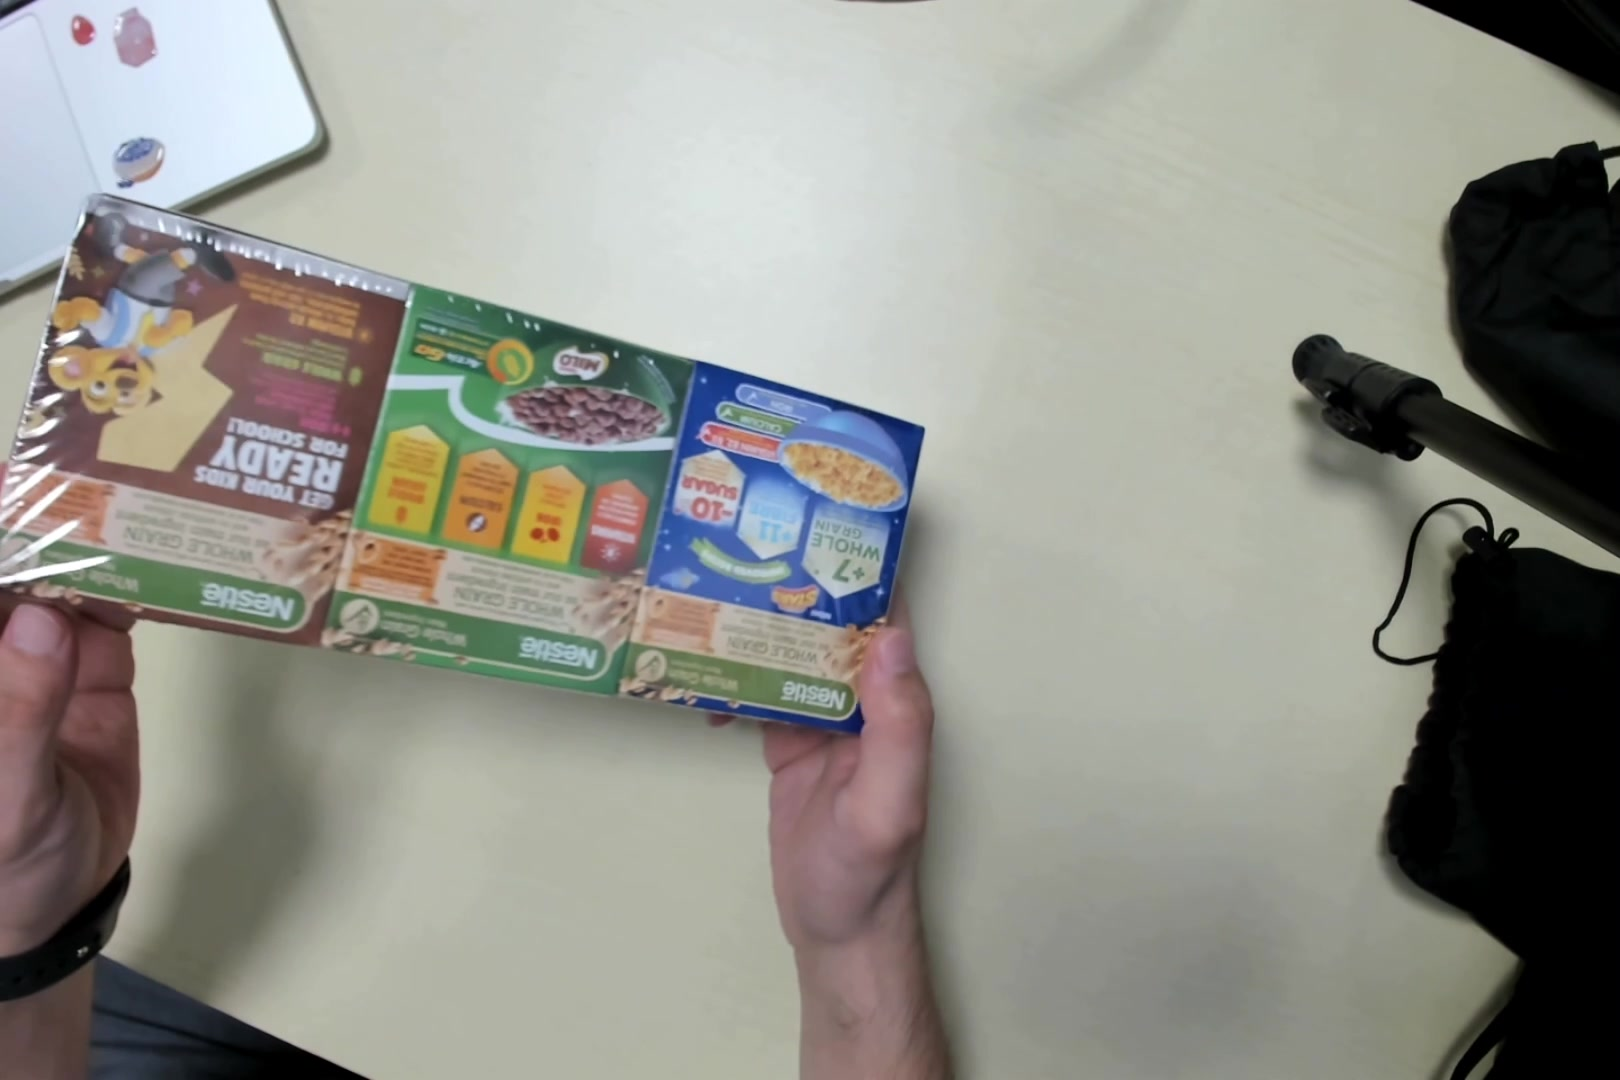BreakfastCereals_100-199g_Halal_NonHealthy: (7, 213, 899, 729)
